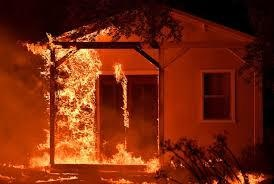fire: (19, 23, 158, 173)
